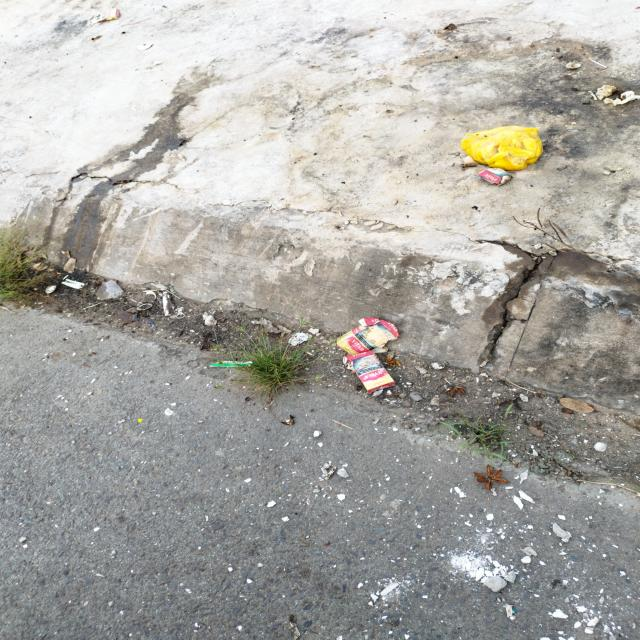bag: (460, 125, 544, 171)
cardboard box: (336, 318, 400, 356), (343, 350, 396, 395), (478, 168, 512, 186)
packet: (209, 361, 253, 367)
